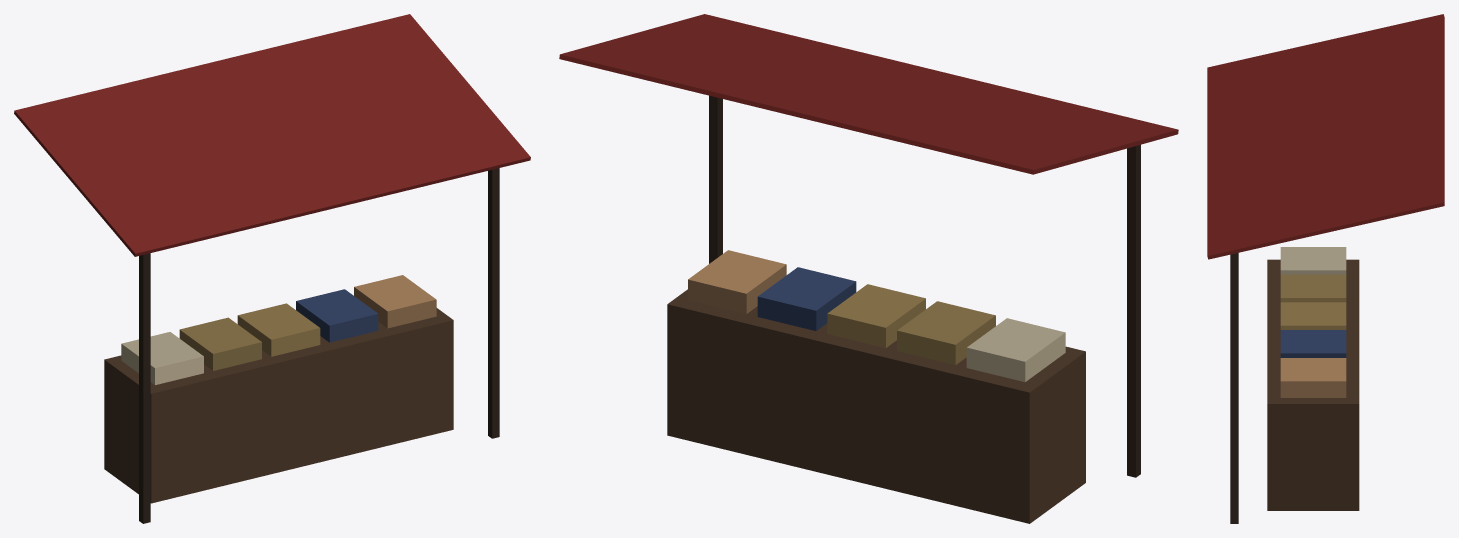
The model's file is walk_prop_awning.glb.
The picture shows the model from 3 angles, left to right: view 1: azimuth 30°, elevation 25°; view 2: azimuth 150°, elevation 25°; view 3: azimuth 270°, elevation 25°; orthographic projection. The views are drawn at different scales.
Parts seen in each view (by area): view 1: walk_prop_awning; view 2: walk_prop_awning; view 3: walk_prop_awning.
Boxes of the visible parts, x1,y1,x2,y2 form: walk_prop_awning: [14, 14, 530, 523]; walk_prop_awning: [559, 14, 1178, 523]; walk_prop_awning: [1207, 14, 1444, 523].
Size of the model in its own units: 3.4 by 2.78 by 1.81.
Materials: 1 (1 with a texture image).
